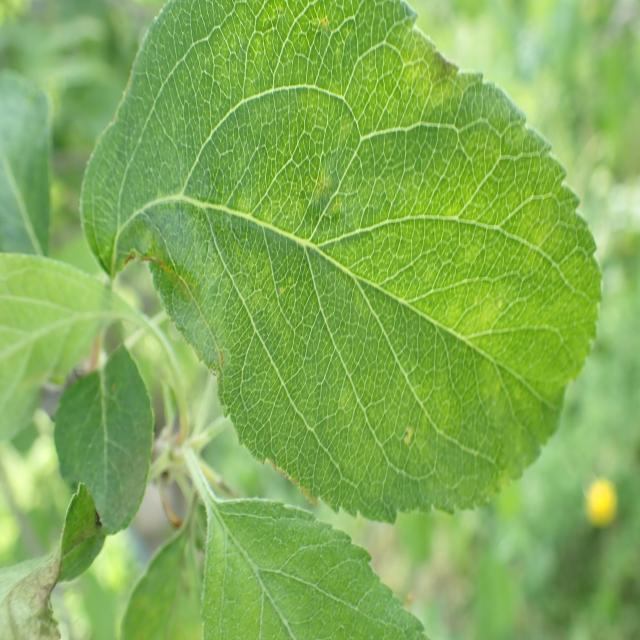scab: (132, 9, 589, 498)
